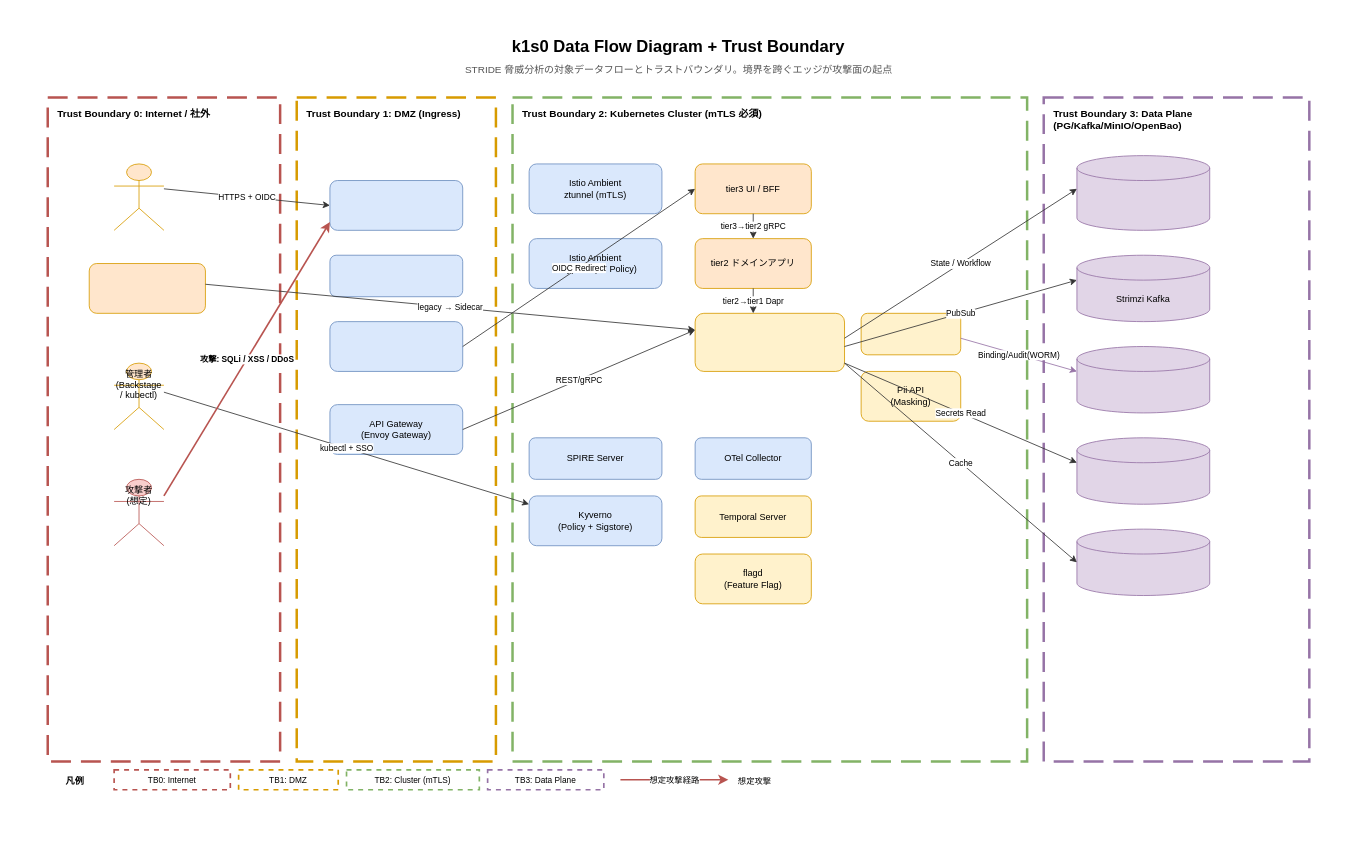
The diagram is 1356 pixels wide and 858 high, and some of its shapes have lost their labels. The shapes that lost their labels are listed below. From the top down, each one's centre as x and y in pixels, then its label:
At (138,196): "エンドユーザ (tier3 UI 経由)".
At (396,205): "Ingress Gateway (Envoy)".
At (1143,192): "CloudNativePG (PostgreSQL)".
At (146,288): "レガシー .NET FW 資産 (VPN 経由)".
At (396,275): "WAF / Rate Limit".
At (396,346): "Keycloak (OIDC IdP)".
At (769,341): "tier1 Dapr ファサード (Go SDK + Rust 自作)".
At (910,333): "Audit API".
At (1143,379): "MinIO (S3)".
At (1143,470): "OpenBao (Secrets)".
At (1143,562): "Valkey (Cache)".
